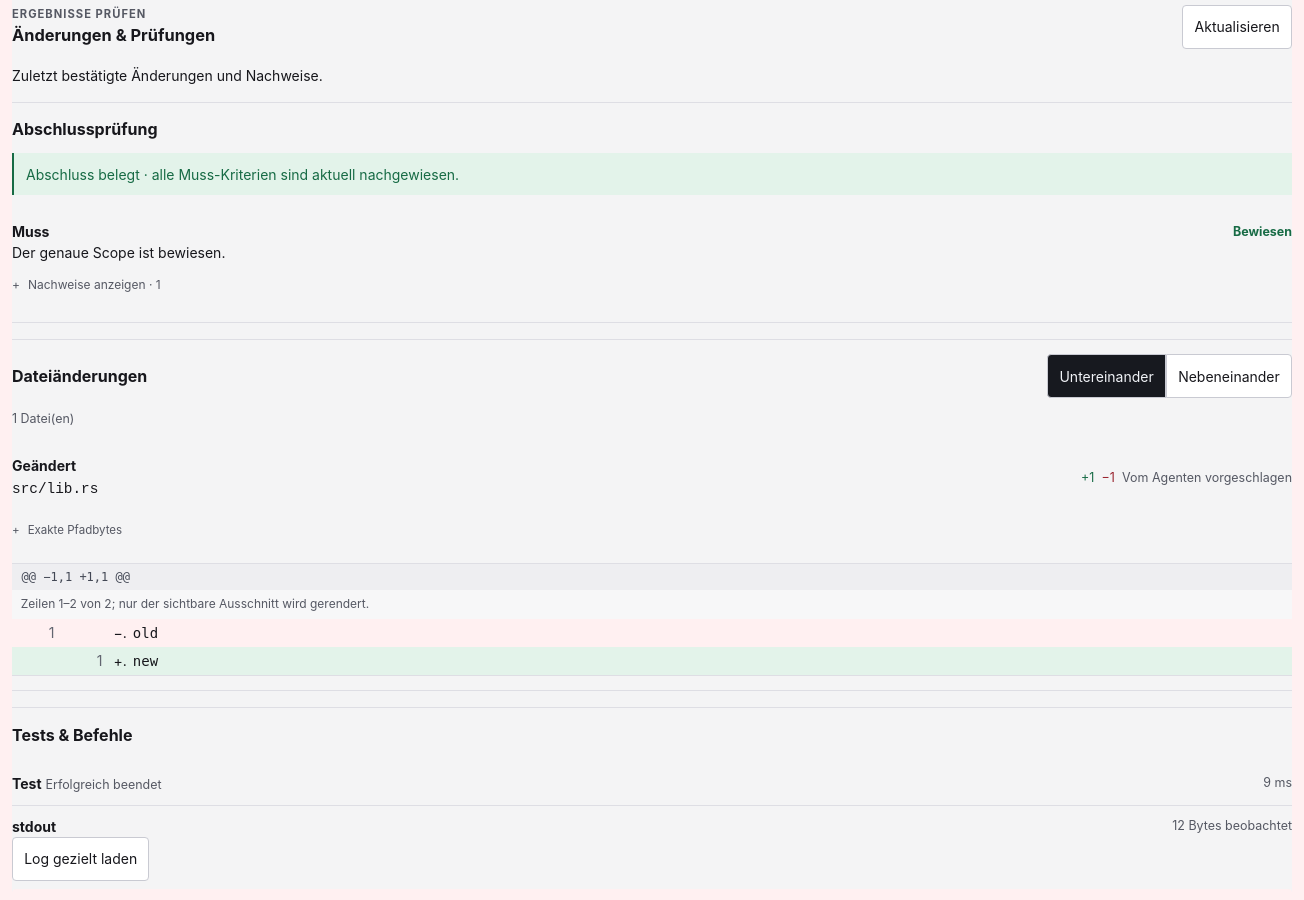
AgentInspectionPanel › renders exact paths and the same hunk in unified and side-by-side layouts
The width and height of the screenshot is (1304, 900).
Expected: the text "src/lib.rs" is shown, [12,479,98,501]
Expected: the text "Vom Agenten vorgeschlagen" is shown, [1122,469,1292,488]
Click the button "Nebeneinander" at (1229,376), box [1166,354,1292,398]
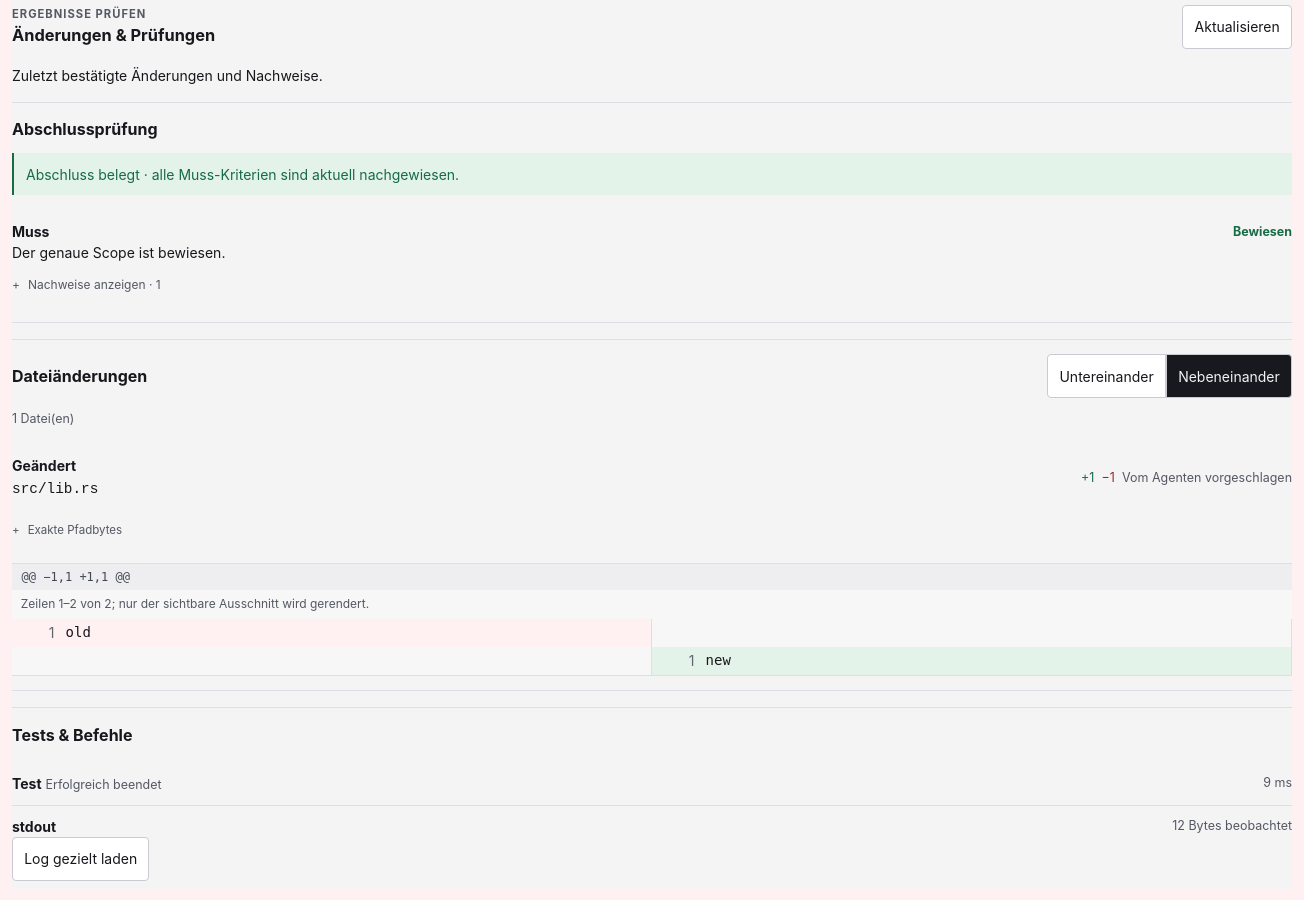
Expected: the text "old" is shown, [66,624,91,640]
Now the table named "Side-by-side Diff" is shown, box [12,619,1292,675]
